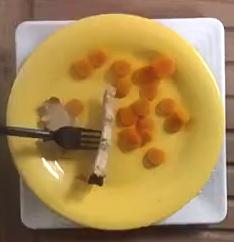carrots: (70, 50, 190, 186)
